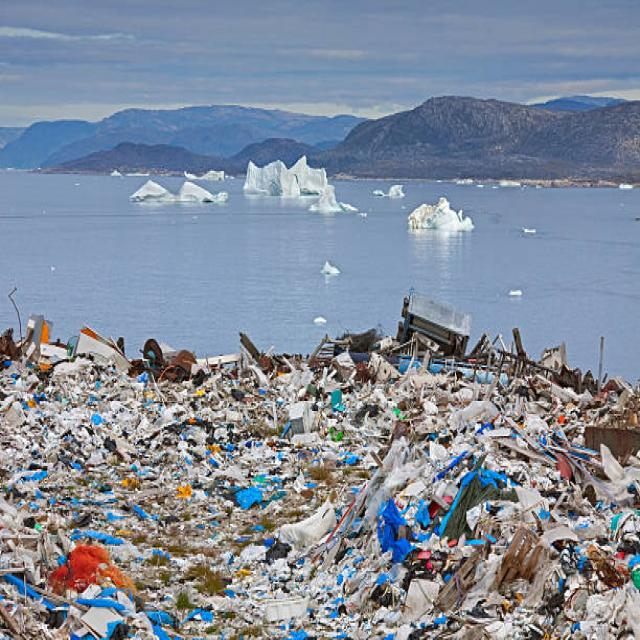plastic: (145, 157, 476, 257)
trash: (7, 332, 640, 616)
